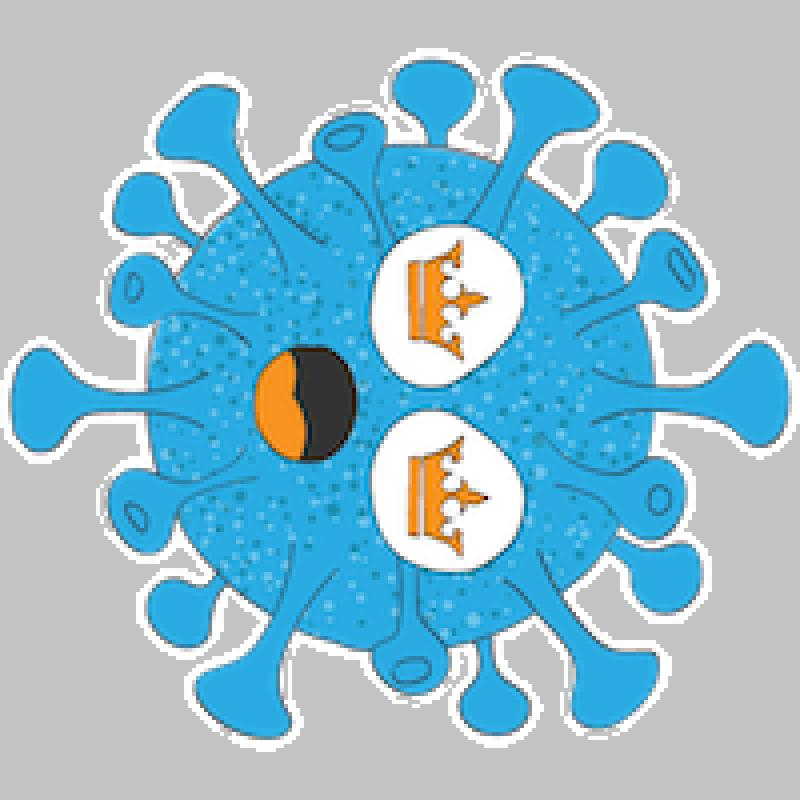corona4: (0, 0, 797, 799)
